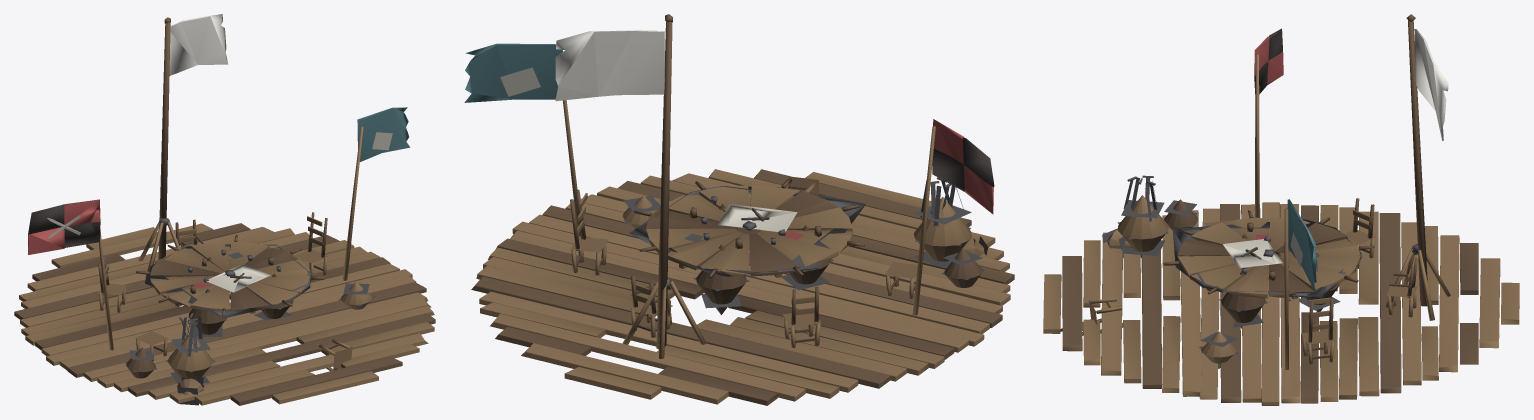
The model's file is parley_table_far.ecd6d0fd.glb.
3 views of the same model, side by side, from view 1: azimuth 30°, elevation 25°; view 2: azimuth 150°, elevation 25°; view 3: azimuth 270°, elevation 25° (orthographic). The views are drawn at different scales.
Parts seen in each view (by area): view 1: parley_table; view 2: parley_table; view 3: parley_table.
Part boxes in pixels (x1=…): parley_table: x1=14, y1=14, x2=435, y2=405; parley_table: x1=464, y1=14, x2=1014, y2=405; parley_table: x1=1043, y1=14, x2=1519, y2=405.
Bounding box in the file's own units: 8.95 × 5.72 × 8.18.
